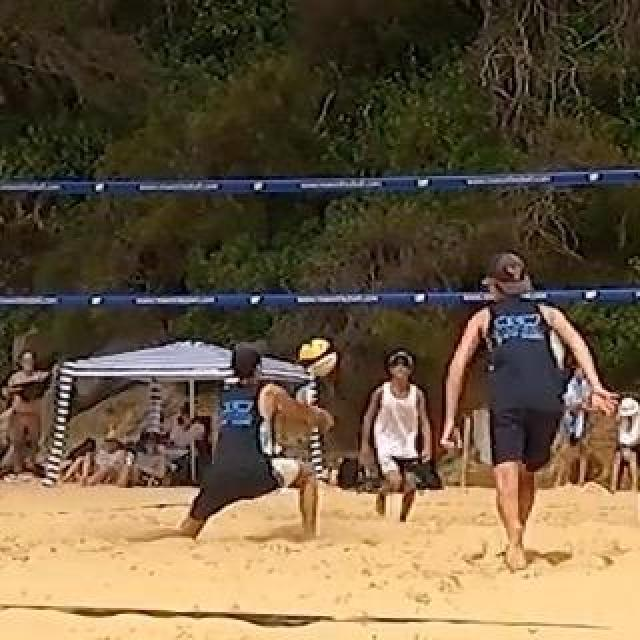volleyball: (298, 338, 338, 376)
